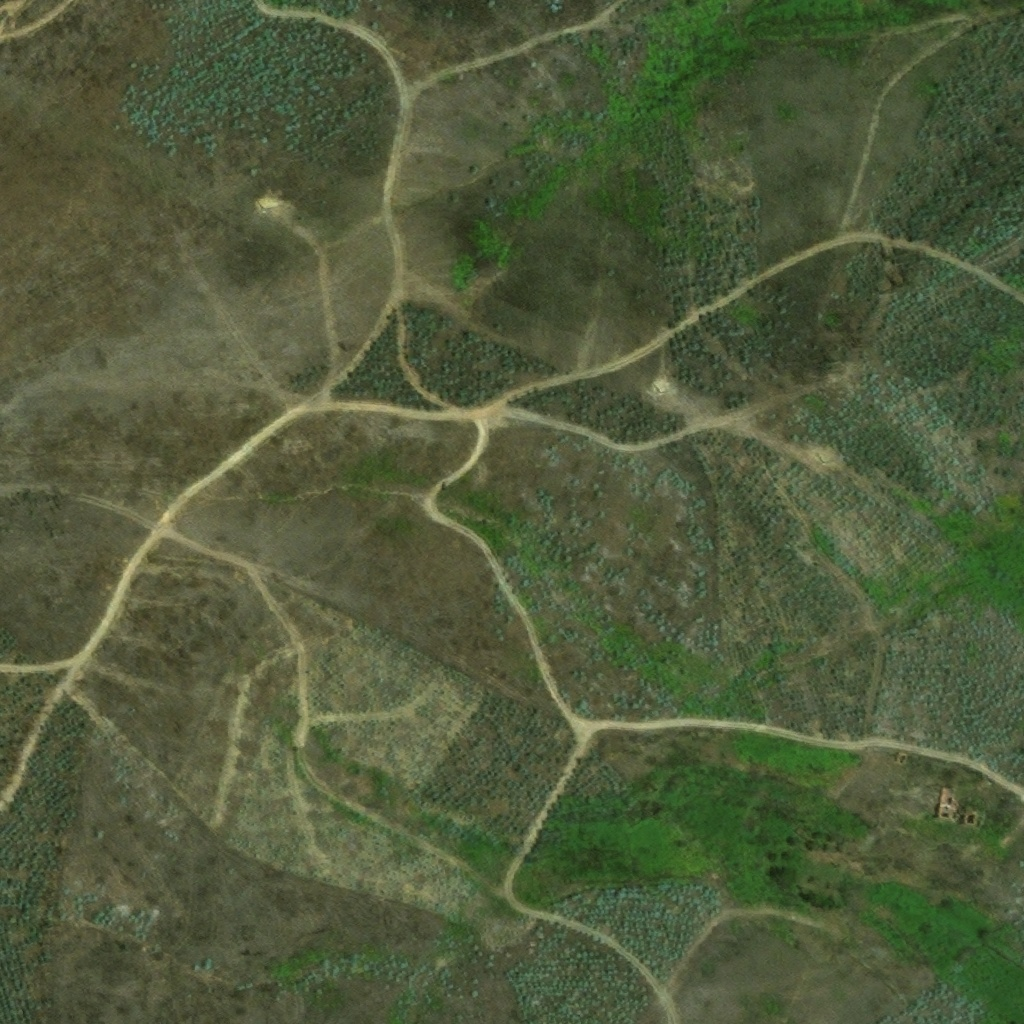3 destroyed: (941, 804, 959, 820), (966, 815, 977, 824)
